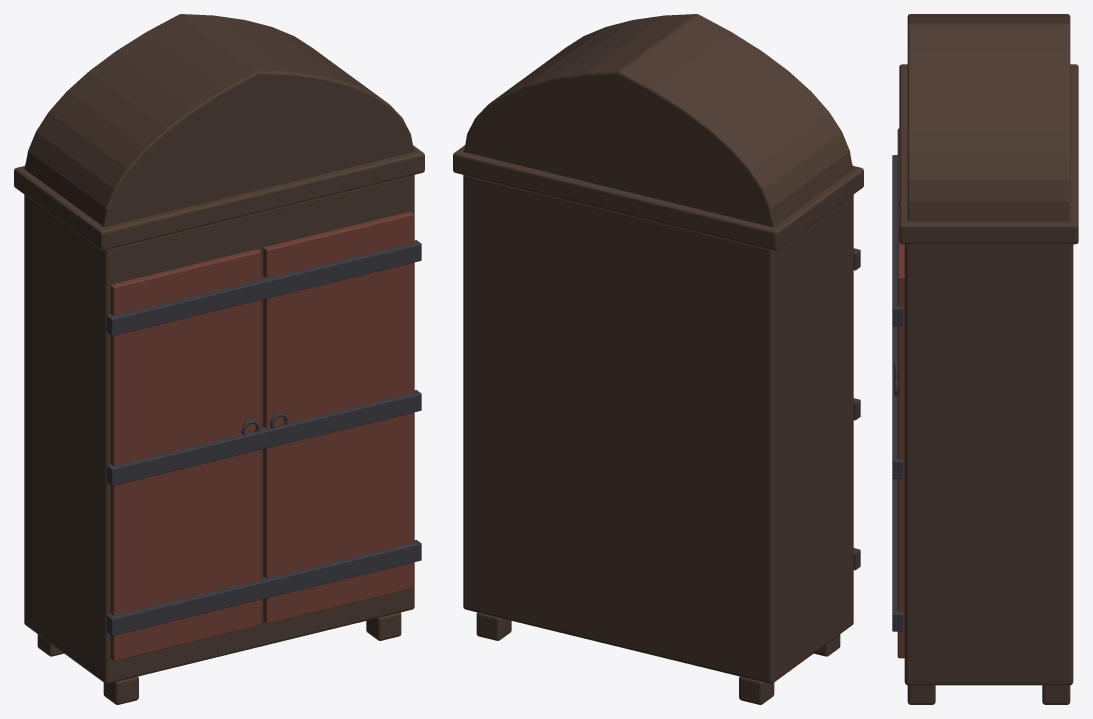
The model's file is wardrobe_iron_bound.glb.
The picture shows the model from 3 angles, left to right: view 1: azimuth 30°, elevation 25°; view 2: azimuth 150°, elevation 25°; view 3: azimuth 270°, elevation 25°; orthographic projection.
Visible parts, largest first — view 1: GD_wardrobe_iron_bound__m0, GD_wardrobe_iron_bound__m2, GD_wardrobe_iron_bound__m1; view 2: GD_wardrobe_iron_bound__m0; view 3: GD_wardrobe_iron_bound__m0, GD_wardrobe_iron_bound__m2, GD_wardrobe_iron_bound__m1.
Boxes of the visible parts, x1,y1,x2,y2 form: GD_wardrobe_iron_bound__m0: (14,14,424,704); GD_wardrobe_iron_bound__m2: (110,211,413,661); GD_wardrobe_iron_bound__m1: (106,240,421,635); GD_wardrobe_iron_bound__m0: (453,14,863,704); GD_wardrobe_iron_bound__m0: (899,14,1078,704); GD_wardrobe_iron_bound__m2: (897,128,904,658); GD_wardrobe_iron_bound__m1: (892,155,903,631).
Bounding box in the file's own units: 1.36 × 2.4 × 0.665.
